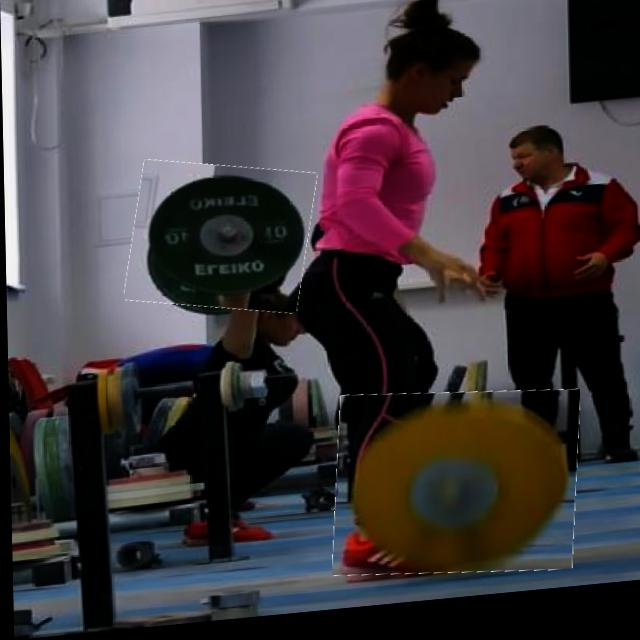barbell: (330, 389, 579, 594), (126, 158, 314, 326)
